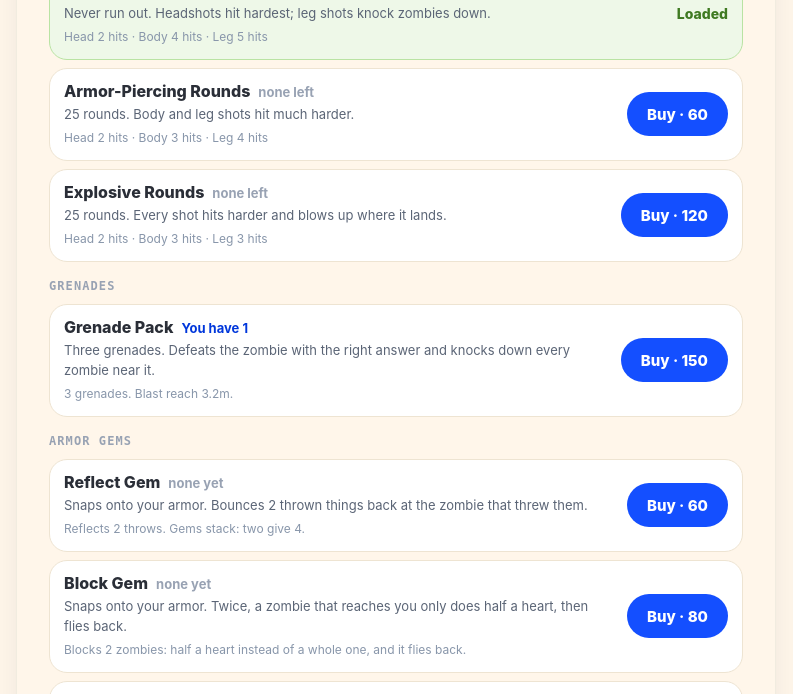
Test: ZombieHorde: the start screen › says so on the card when grenades are bought, with the new count
(page scrolled)
Click the button with aria-label "Buy Grenade Pack for 150 points" at (674, 360), box [621, 338, 728, 382]
(page scrolled)
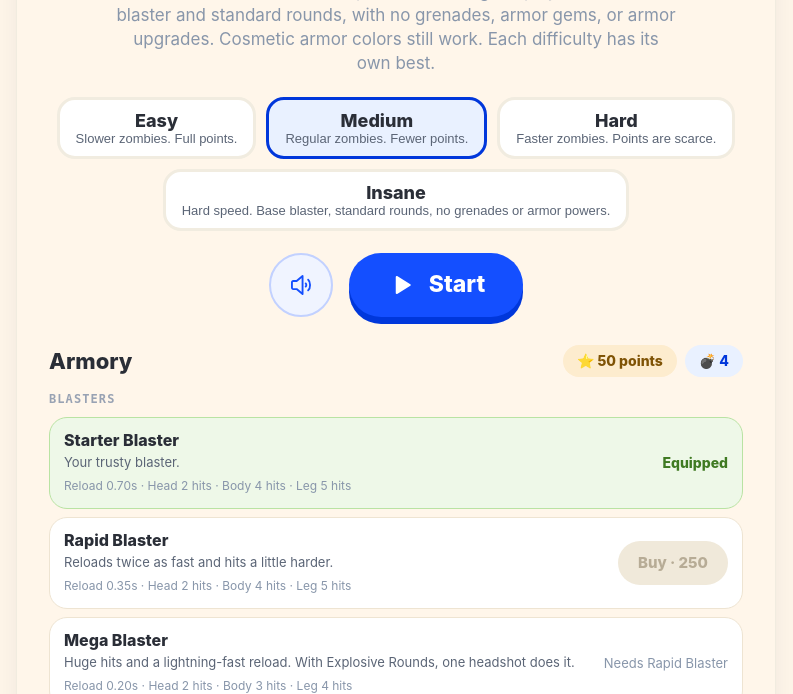
Expected: the message named "Grenades" shows "4", [719, 352, 729, 369]
